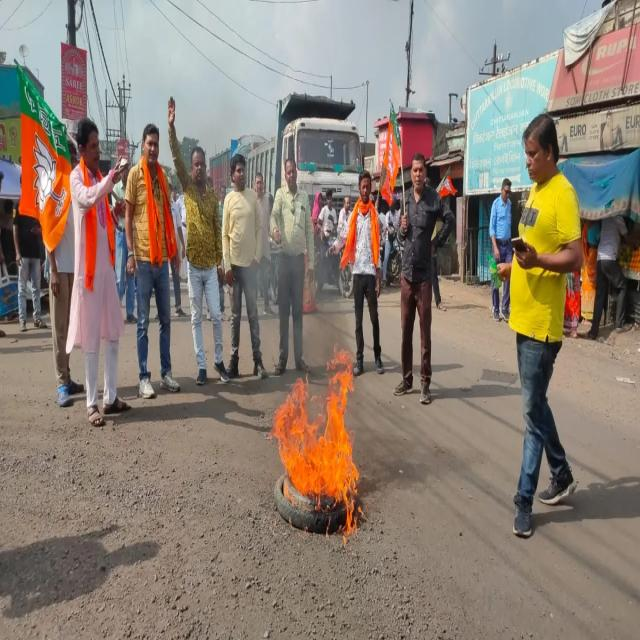fire: (266, 345, 358, 505)
